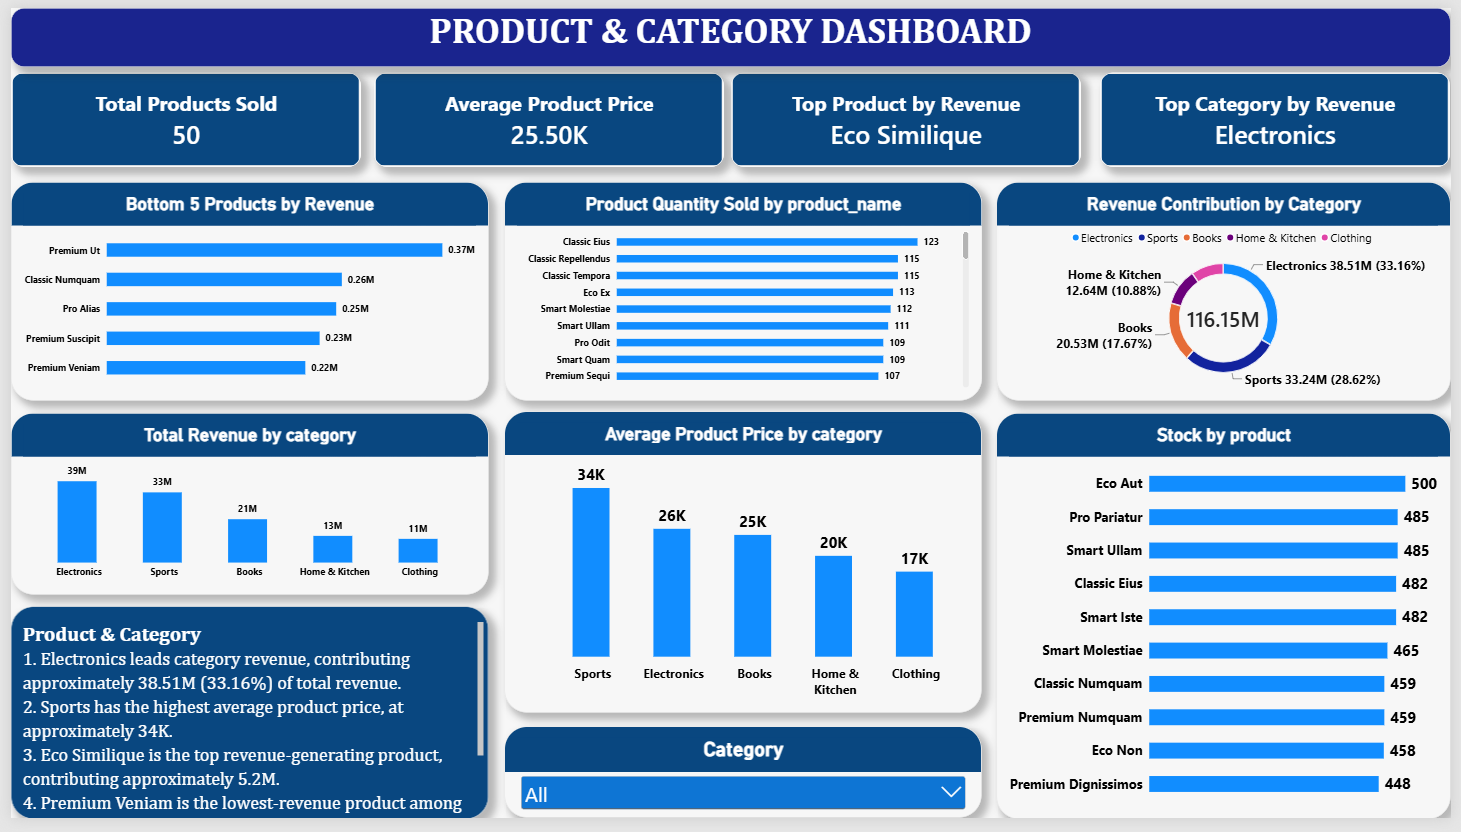

The page's visual inventory and layout, read from the dashboard file:
{"tool":"powerbi","page":{"name":"Product & Category Dashboard","canvas":[1920,1080],"ordinal":2},"visuals":[{"type":"cardVisual","fields":{"Data":["products.Total Products Sold"]},"box":[0,86.8,467,126],"z":0},{"type":"cardVisual","fields":{"Data":["products.Average Product Price"]},"box":[483.5,86.8,467,126],"z":1000},{"type":"cardVisual","fields":{"Data":["order_items.Top Product by Revenue"]},"box":[960.9,86.8,467,126],"z":2000},{"type":"columnChart","fields":{"Category":["products.category"],"Y":["order_items.Total Revenue"]},"box":[0,539.3,636.4,241.8],"z":3000},{"type":"clusteredBarChart","fields":{"Category":["products.product_name"],"Y":["order_items.Product Quantity Sold"]},"box":[657.1,231.4,636.4,291.4],"z":4000},{"type":"columnChart","fields":{"Category":["products.category"],"Y":["products.Average Product Price"]},"box":[657.3,538.5,636.2,401.2],"z":5000},{"type":"textbox","box":[0,797.6,636.4,283.1],"z":6000},{"type":"clusteredBarChart","title":"Bottom 5 Products by Revenue","fields":{"Category":["products.product_name"],"Y":["order_items.Total Revenue"]},"box":[0,231.4,636.4,291.4],"z":7000},{"type":"clusteredBarChart","title":"Stock by product","fields":{"Category":["products.product_name"],"Y":["Sum(products.stock)"]},"box":[1314.2,539.3,605.4,541.4],"z":8000},{"type":"donutChart","title":"Revenue Contribution by Category","fields":{"Category":["products.category"],"Y":["order_items.Total Revenue"]},"box":[1314.2,231.4,605.4,291.4],"z":9000},{"type":"textbox","box":[0,0,1919.7,78.5],"z":10000},{"type":"cardVisual","fields":{"Data":["order_items.Top Category by Revenue"]},"box":[1452.7,86.8,467,126],"z":11000},{"type":"slicer","title":"Category","fields":{"Values":["products.category"]},"box":[657.3,958.2,636.2,121.4],"z":12000}]}

Visuals, with their boxes in screenshot pixels (x1, y1, x2, y2), scaled from the page's 1920x1080 canvas onto the 1461x832 screenshot:
cardVisual - products.Total Products Sold: select_region(0, 67, 355, 164)
cardVisual - products.Average Product Price: select_region(368, 67, 723, 164)
cardVisual - order_items.Top Product by Revenue: select_region(731, 67, 1087, 164)
columnChart - products.category x order_items.Total Revenue: select_region(0, 415, 484, 602)
clusteredBarChart - products.product_name x order_items.Product Quantity Sold: select_region(500, 178, 984, 403)
columnChart - products.category x products.Average Product Price: select_region(500, 415, 984, 724)
textbox: select_region(0, 614, 484, 831)
"Bottom 5 Products by Revenue" clusteredBarChart: select_region(0, 178, 484, 403)
"Stock by product" clusteredBarChart: select_region(1000, 415, 1460, 831)
"Revenue Contribution by Category" donutChart: select_region(1000, 178, 1460, 403)
textbox: select_region(0, 0, 1460, 60)
cardVisual - order_items.Top Category by Revenue: select_region(1105, 67, 1460, 164)
"Category" slicer: select_region(500, 738, 984, 831)
